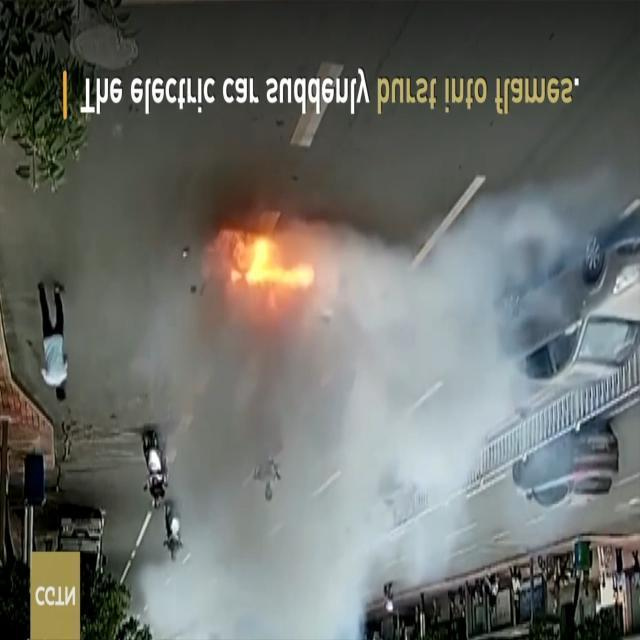fire: (206, 215, 318, 318)
